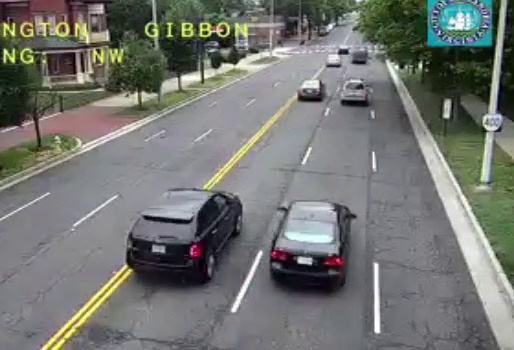car: (125, 188, 242, 271), (269, 199, 350, 281), (340, 79, 367, 103), (297, 81, 323, 99)
